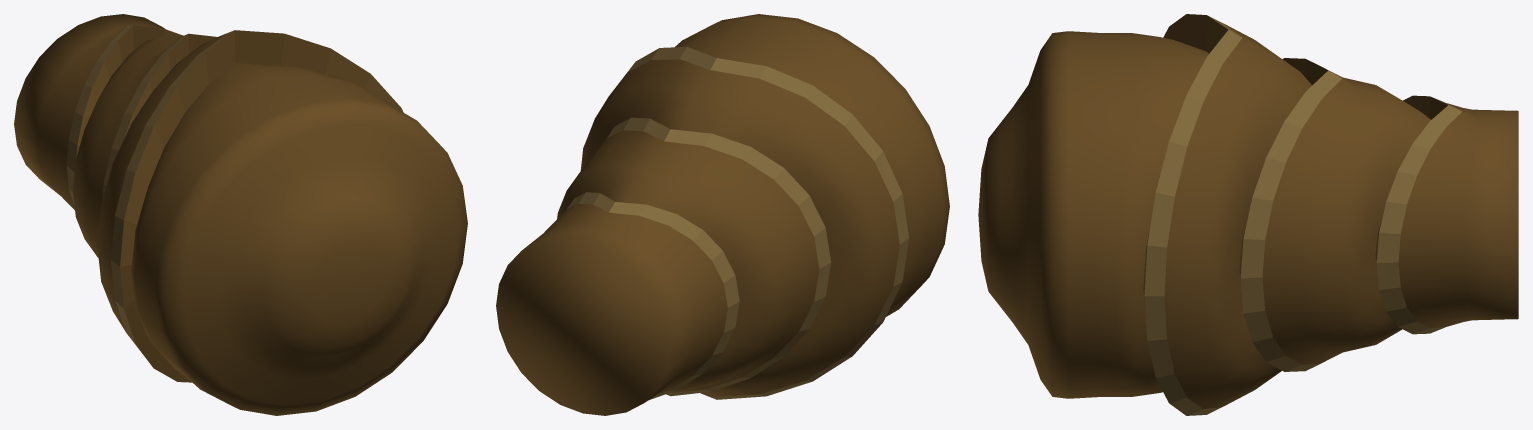
File: newshh-55.glb
The picture shows the model from 3 angles, left to right: view 1: azimuth 30°, elevation 25°; view 2: azimuth 150°, elevation 25°; view 3: azimuth 270°, elevation 25°; orthographic projection. The views are drawn at different scales.
Parts seen in each view (by area): view 1: newshh-55; view 2: newshh-55; view 3: newshh-55.
Part boxes in pixels (bbox=[...]): newshh-55: bbox=[14, 14, 467, 415]; newshh-55: bbox=[496, 14, 949, 415]; newshh-55: bbox=[978, 14, 1518, 415].
Size of the model in its own units: 1.6 by 1.7 by 2.25.
